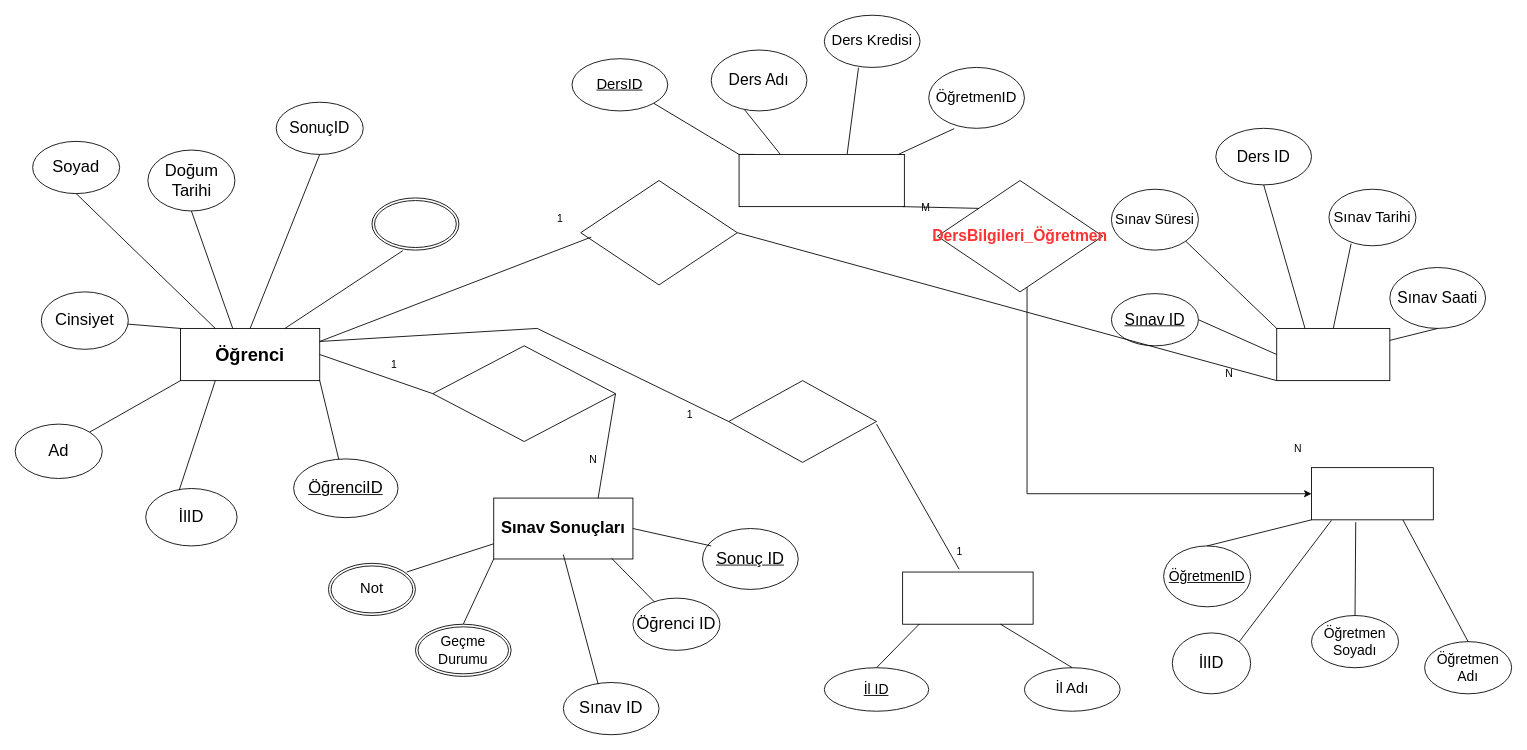
Image size: 1527x750. Some labels were removed from this diagram. Here are the shapes that lost their labels. From the top down, the centre of each, then its label:
At (x=821, y=180): "Ders Bilgileri".
At (x=415, y=223): "TelNo".
At (x=658, y=232): "Öğrenci_SınavProgramı".
At (x=1333, y=354): "Sınav Programı".
At (x=524, y=393): "Öğrenci_SınavSonuçları".
At (x=802, y=421): "Öğrenci_Adres".
At (x=1372, y=493): "Öğretmen".
At (x=967, y=597): "Adres".
